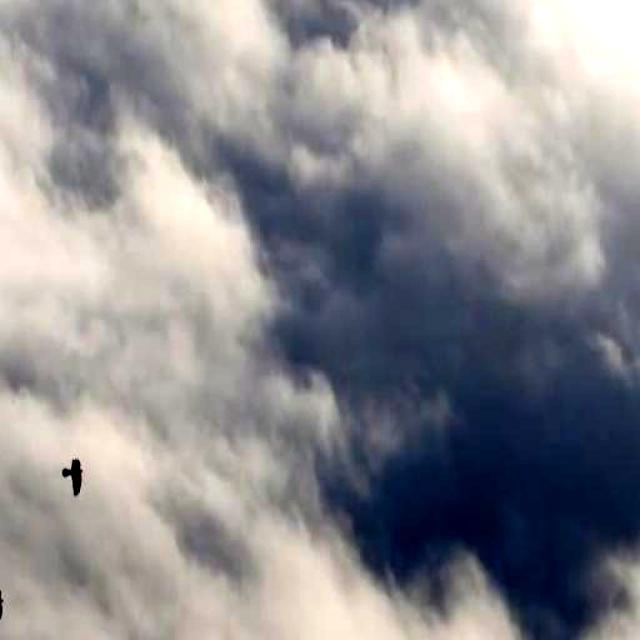airplane: (54, 449, 91, 508), (0, 566, 28, 638)
